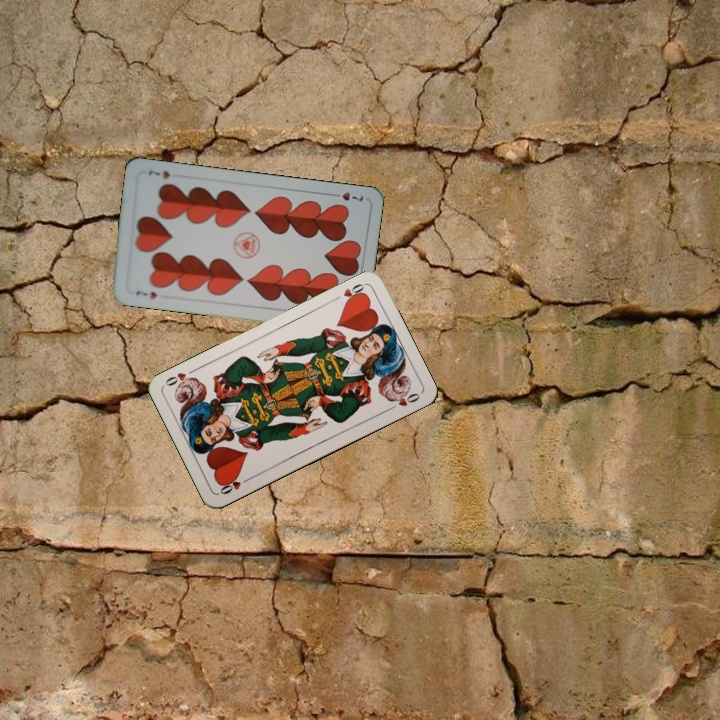H7: (327, 188, 366, 204), (132, 286, 159, 301)
HO: (330, 279, 368, 306), (216, 473, 253, 497)
